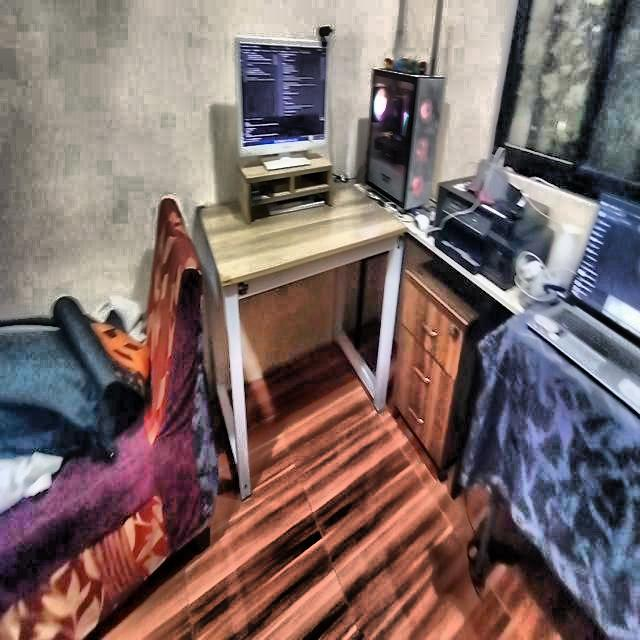mesa: (200, 167, 410, 473)
